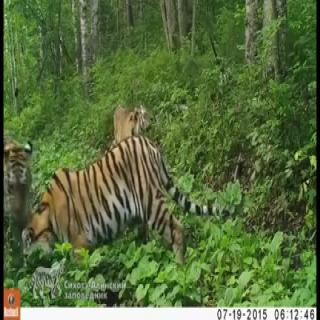Tiger: (25, 132, 233, 273), (0, 129, 35, 226), (107, 91, 160, 138)
